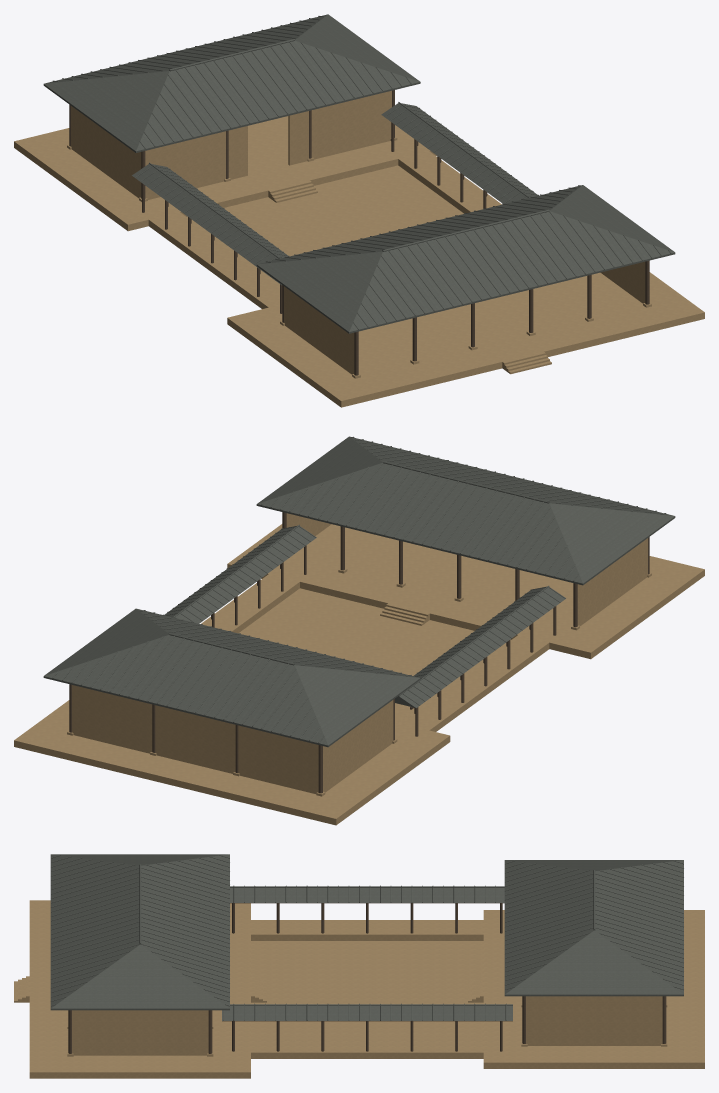
File: yutang-B-LOD1.glb
3 renders of one model, top to bottom at view 1: azimuth 30°, elevation 25°; view 2: azimuth 150°, elevation 25°; view 3: azimuth 270°, elevation 25°, orthographic. The views are drawn at different scales.
Parts seen in each view (by area): view 1: yutang-B-static_earth, yutang-B-static_tile, yutang-B-static_timber; view 2: yutang-B-static_earth, yutang-B-static_tile, yutang-B-static_timber; view 3: yutang-B-static_earth, yutang-B-static_tile, yutang-B-static_timber.
Part boxes in pixels (x1=…): yutang-B-static_earth: x1=14, y1=90, x2=704, y2=407; yutang-B-static_tile: x1=43, y1=14, x2=675, y2=333; yutang-B-static_timber: x1=69, y1=90, x2=649, y2=375; yutang-B-static_earth: x1=14, y1=513, x2=704, y2=825; yutang-B-static_tile: x1=43, y1=436, x2=675, y2=747; yutang-B-static_timber: x1=69, y1=512, x2=649, y2=793; yutang-B-static_earth: x1=14, y1=900, x2=704, y2=1078; yutang-B-static_tile: x1=50, y1=854, x2=683, y2=1020; yutang-B-static_timber: x1=68, y1=903, x2=666, y2=1053.
Size of the model in its own units: 35 by 9.08 by 59.36.
Materials: 3 (3 with a texture image).
